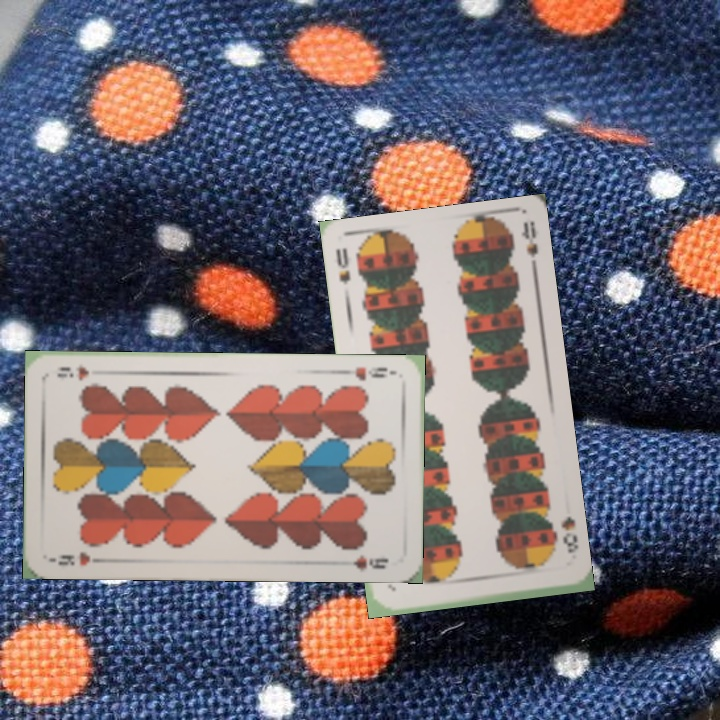H9: (54, 548, 106, 568), (340, 363, 390, 383)
S8: (557, 512, 581, 556), (332, 244, 353, 287)
